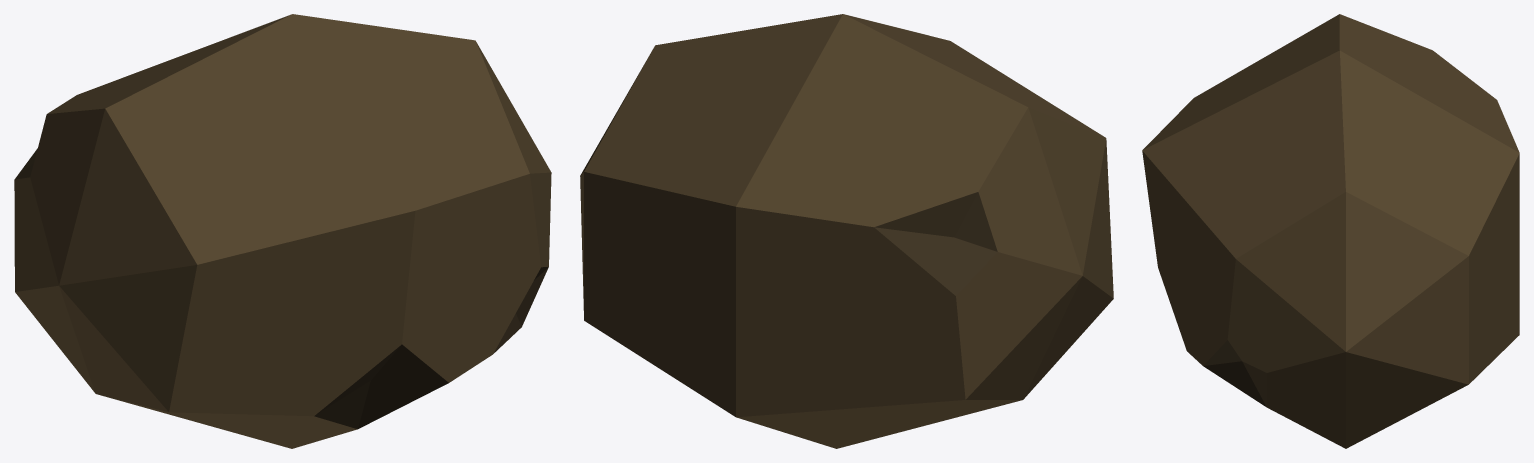
Rendered from potato_02.fbx.
3 views of the same model, side by side, from view 1: azimuth 30°, elevation 25°; view 2: azimuth 150°, elevation 25°; view 3: azimuth 270°, elevation 25° (orthographic). The views are drawn at different scales.
Parts seen in each view (by area): view 1: potato_02; view 2: potato_02; view 3: potato_02.
Boxes of the visible parts, x1,y1,x2,y2 form: potato_02: [14, 14, 551, 448]; potato_02: [580, 14, 1113, 448]; potato_02: [1142, 14, 1519, 448].
Size of the model in its own units: 0.3732 by 0.3123 by 0.2856.
